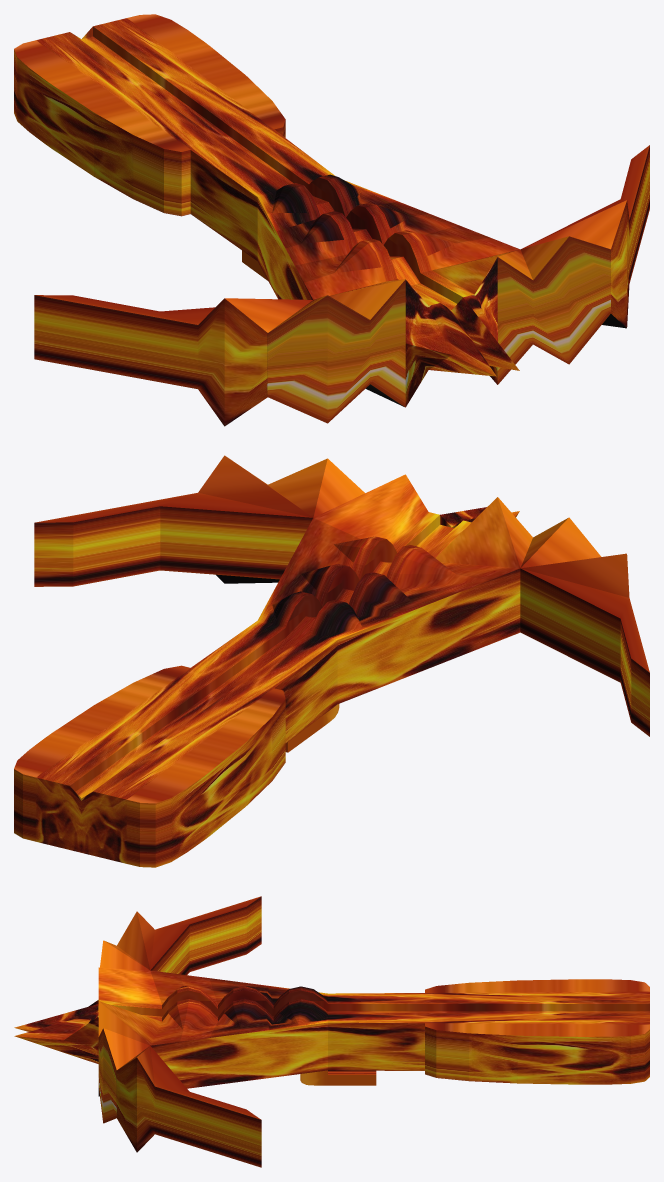
Rendered from Ballesta Fuego2 1.fbx.
3 renders of one model, top to bottom at view 1: azimuth 30°, elevation 25°; view 2: azimuth 150°, elevation 25°; view 3: azimuth 270°, elevation 25°, orthographic. The views are drawn at different scales.
Parts seen in each view (by area): view 1: Cubo; view 2: Cubo; view 3: Cubo.
Part boxes in pixels (bbox=[...]): Cubo: bbox=[14, 14, 649, 426]; Cubo: bbox=[14, 455, 649, 867]; Cubo: bbox=[14, 896, 649, 1167].
Size of the model in its own units: 1338 by 267 by 1607.
1 material, 1 textured.
